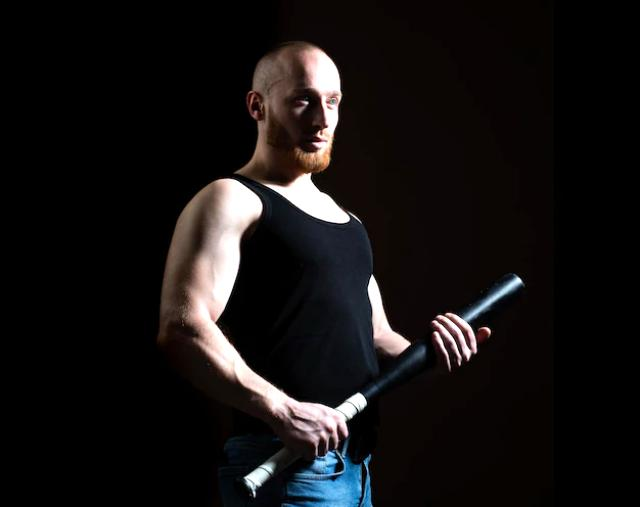baseball bat: (242, 270, 530, 498)
